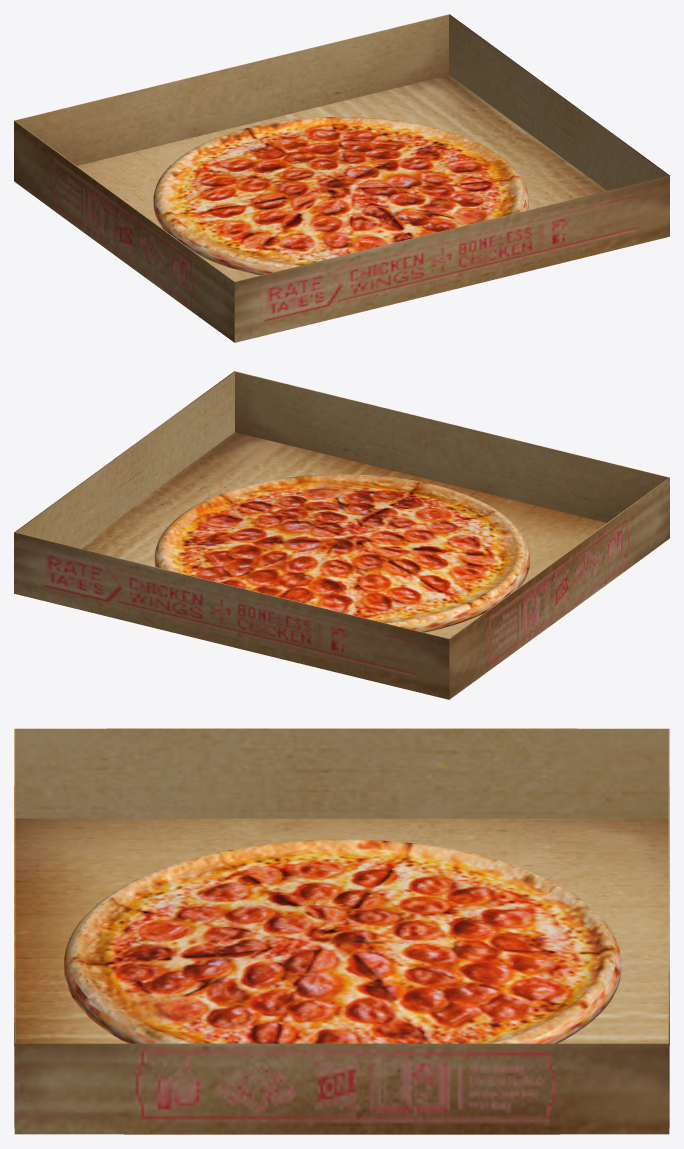
File: pizza.obj
The picture shows the model from 3 angles, top to bottom: view 1: azimuth 30°, elevation 25°; view 2: azimuth 150°, elevation 25°; view 3: azimuth 270°, elevation 25°; orthographic projection. The views are drawn at different scales.
Visible parts, largest first — view 1: scala:scala:polySurface2 CheesePizza:Pizza_3d_models__3dislands_; view 2: scala:scala:polySurface2 CheesePizza:Pizza_3d_models__3dislands_; view 3: scala:scala:polySurface2 CheesePizza:Pizza_3d_models__3dislands_.
Boxes of the visible parts, x1,y1,x2,y2 form: scala:scala:polySurface2 CheesePizza:Pizza_3d_models__3dislands_: (14,14,669,342); scala:scala:polySurface2 CheesePizza:Pizza_3d_models__3dislands_: (14,371,669,699); scala:scala:polySurface2 CheesePizza:Pizza_3d_models__3dislands_: (14,728,669,1134).
Bounding box in the file's own units: 1.86 × 0.2516 × 1.64.
Materials: 1 (1 with a texture image).
